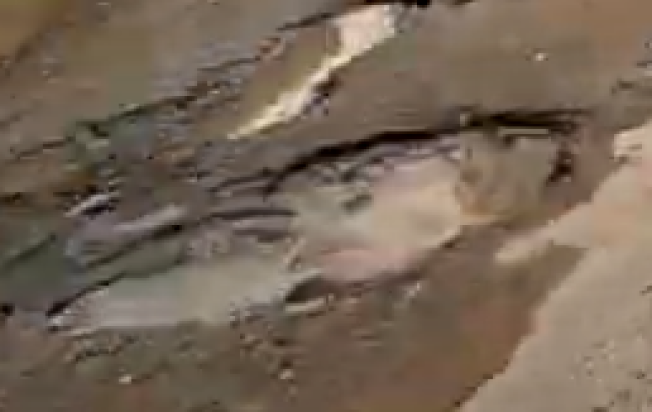Berlubang: (48, 172, 314, 354), (251, 143, 476, 305), (39, 40, 297, 180), (320, 116, 547, 253), (402, 97, 589, 216), (236, 10, 377, 116), (290, 1, 446, 62)
